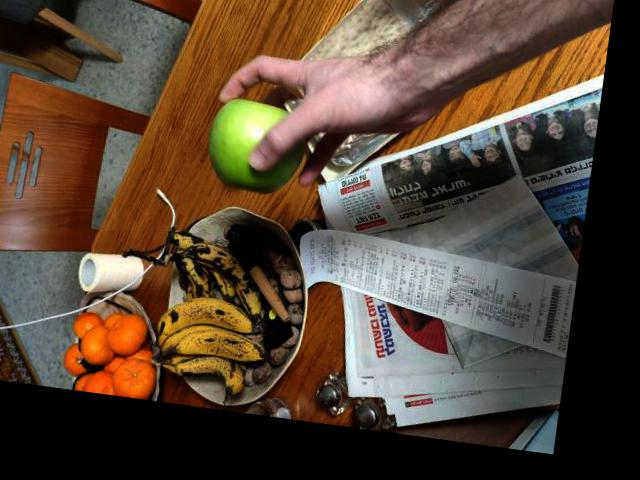apple: (203, 95, 309, 200)
